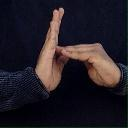hand: (55, 42, 121, 88), (34, 6, 69, 92)
